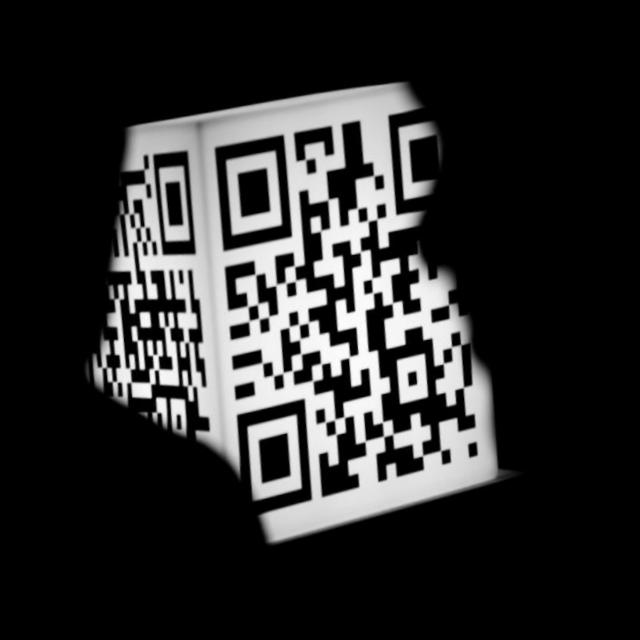qrcode: (198, 105, 503, 523), (61, 147, 233, 476)
